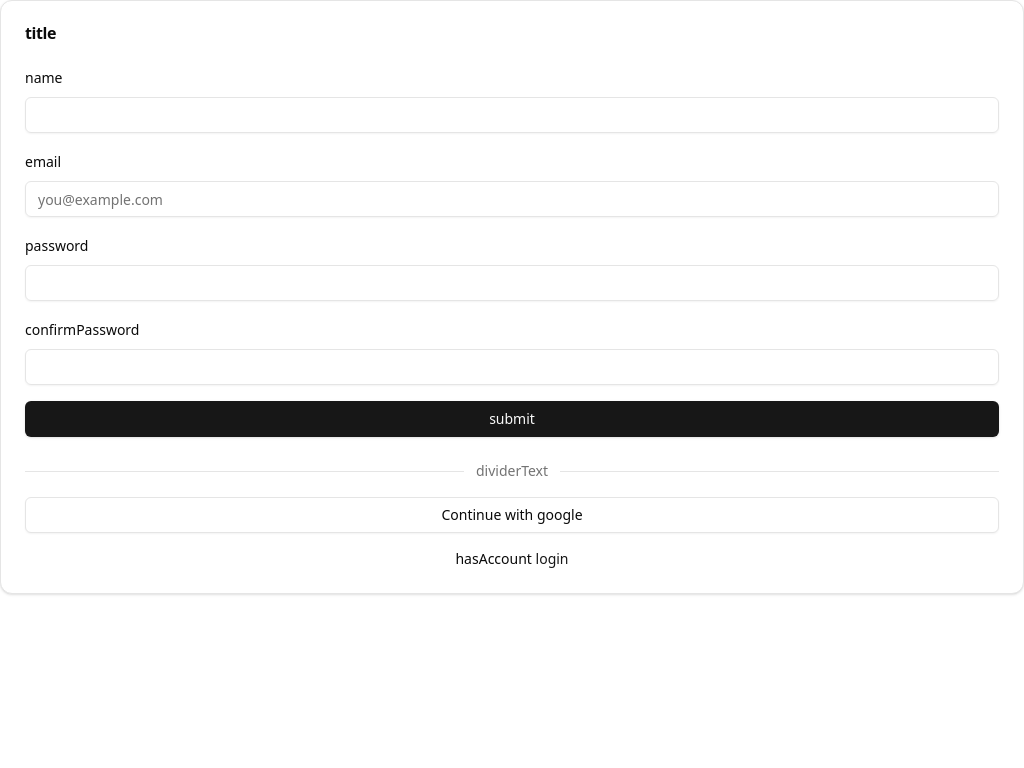
Test case: RegisterForm › shows validation error for weak password
The width and height of the screenshot is (1024, 768).
In the field labelled "email": (512, 199) [25,181,999,217], type "user@example.com"
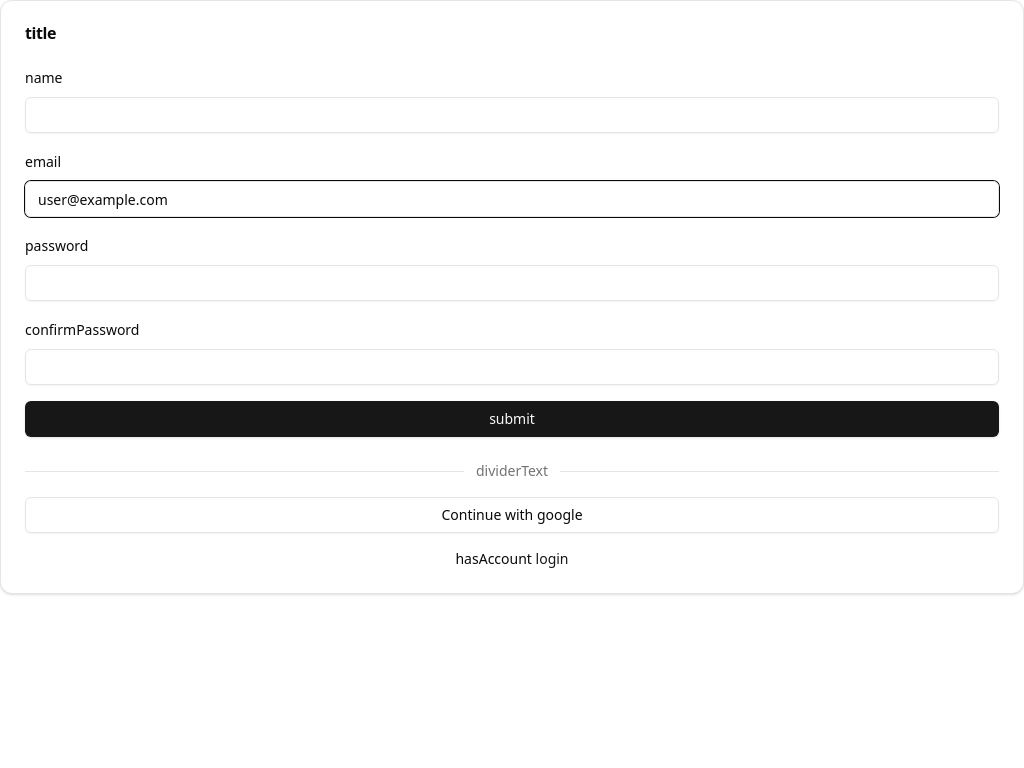
In the password field labelled "password": (512, 283) [25,265,999,301], type "weak"
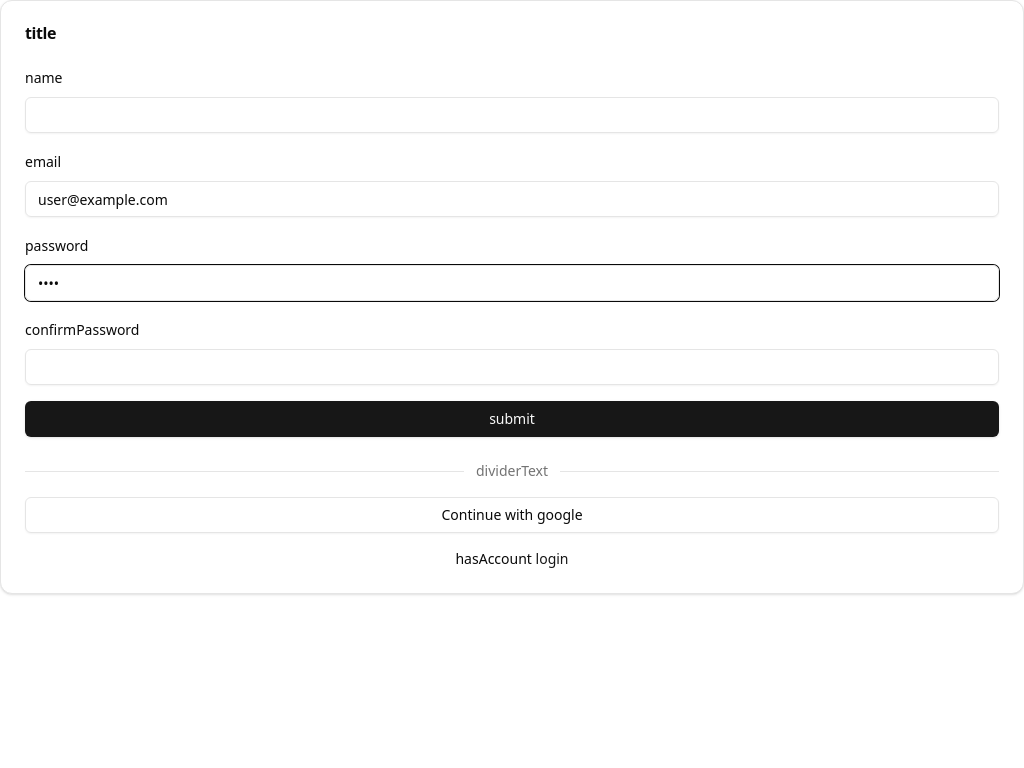
In the password field labelled "confirmPassword": (512, 367) [25,349,999,385], type "weak"
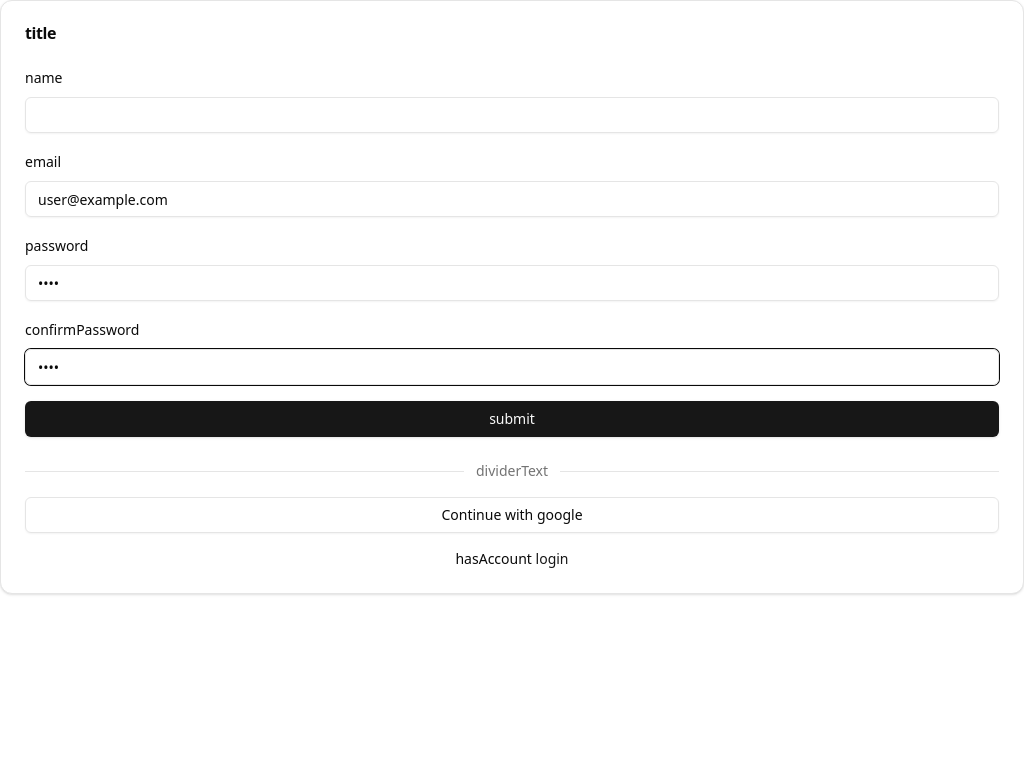
Click the button "submit": (512, 419) [25,401,999,437]
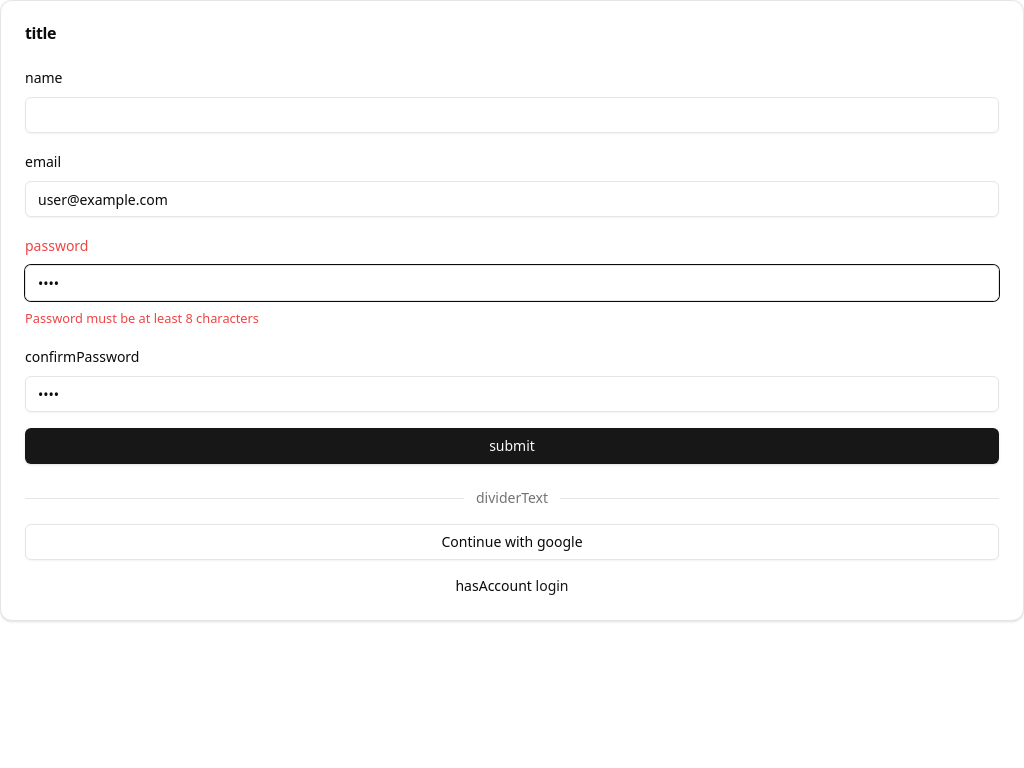
Expected: the text "Password must be at least 8 characters" is shown, [25,309,259,327]
